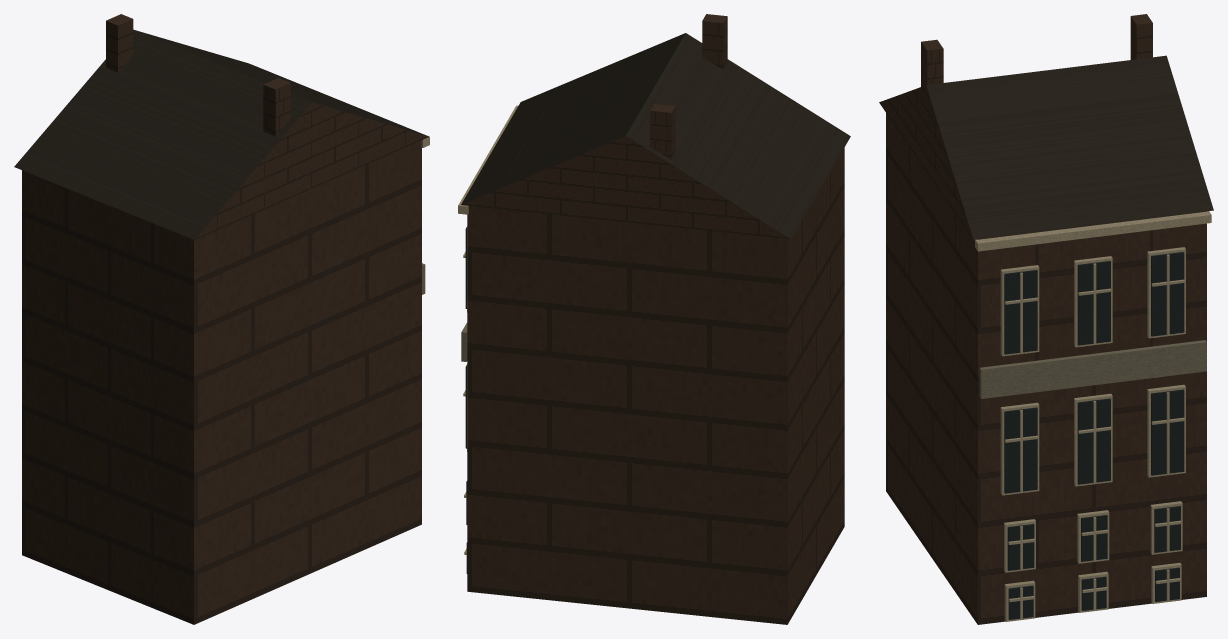
3 renders of one model, left to right at view 1: azimuth 30°, elevation 25°; view 2: azimuth 150°, elevation 25°; view 3: azimuth 270°, elevation 25°, orthographic.
Parts seen in each view (by area): view 1: posthoornsteeg3-0, posthoornsteeg3-1; view 2: posthoornsteeg3-0, posthoornsteeg3-1, posthoornsteeg3-2; view 3: posthoornsteeg3-0, posthoornsteeg3-1, posthoornsteeg3-3, posthoornsteeg3-2, posthoornsteeg3-4.
Boxes of the visible parts, bbox=[...] form: posthoornsteeg3-0: bbox=[22, 14, 429, 624]; posthoornsteeg3-1: bbox=[14, 29, 427, 240]; posthoornsteeg3-0: bbox=[461, 14, 844, 624]; posthoornsteeg3-1: bbox=[461, 33, 850, 238]; posthoornsteeg3-2: bbox=[458, 105, 518, 554]; posthoornsteeg3-0: bbox=[879, 14, 1206, 624]; posthoornsteeg3-1: bbox=[926, 55, 1213, 239]; posthoornsteeg3-3: bbox=[1004, 252, 1184, 619]; posthoornsteeg3-2: bbox=[975, 211, 1211, 621]; posthoornsteeg3-4: bbox=[979, 340, 1206, 398].
Size of the model in its own units: 11.74 by 16.2 by 9.87.
Materials: 5 (5 with a texture image).
